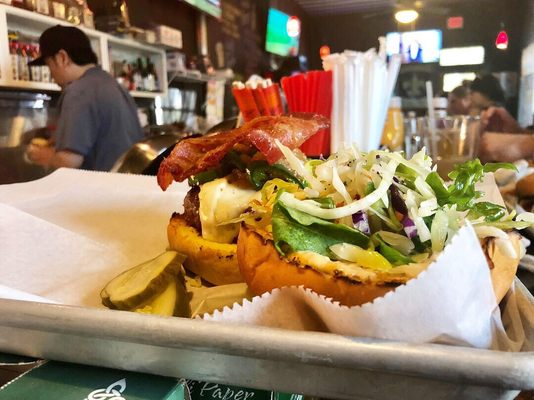pizza: (421, 114, 482, 167)
soup: (154, 113, 532, 318)
